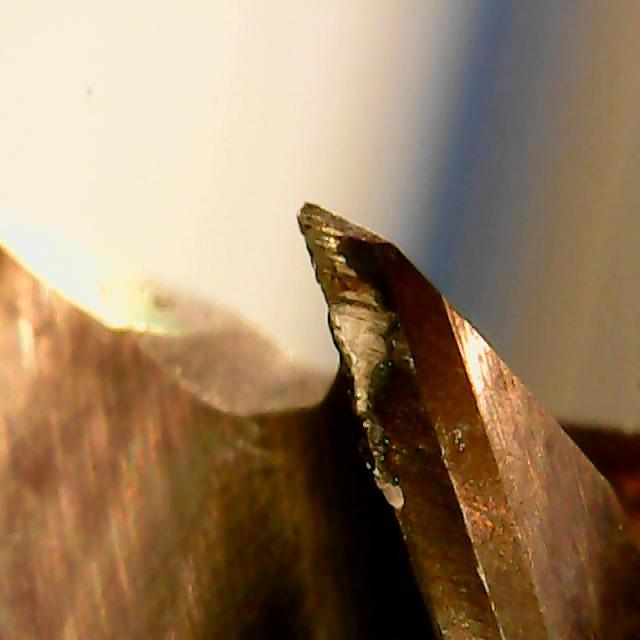Tool-wear-class-2: (289, 195, 456, 429)
